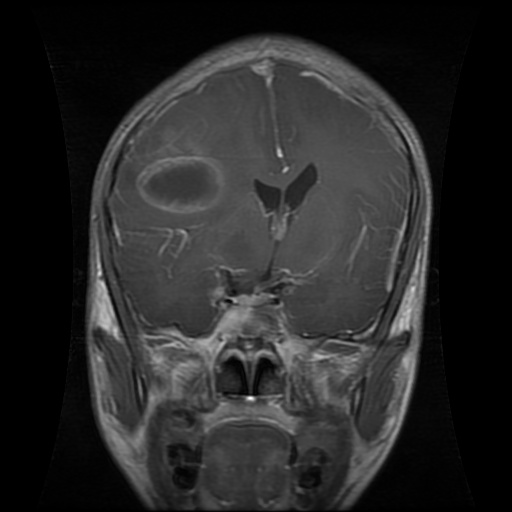glioma: (135, 156, 231, 214)
